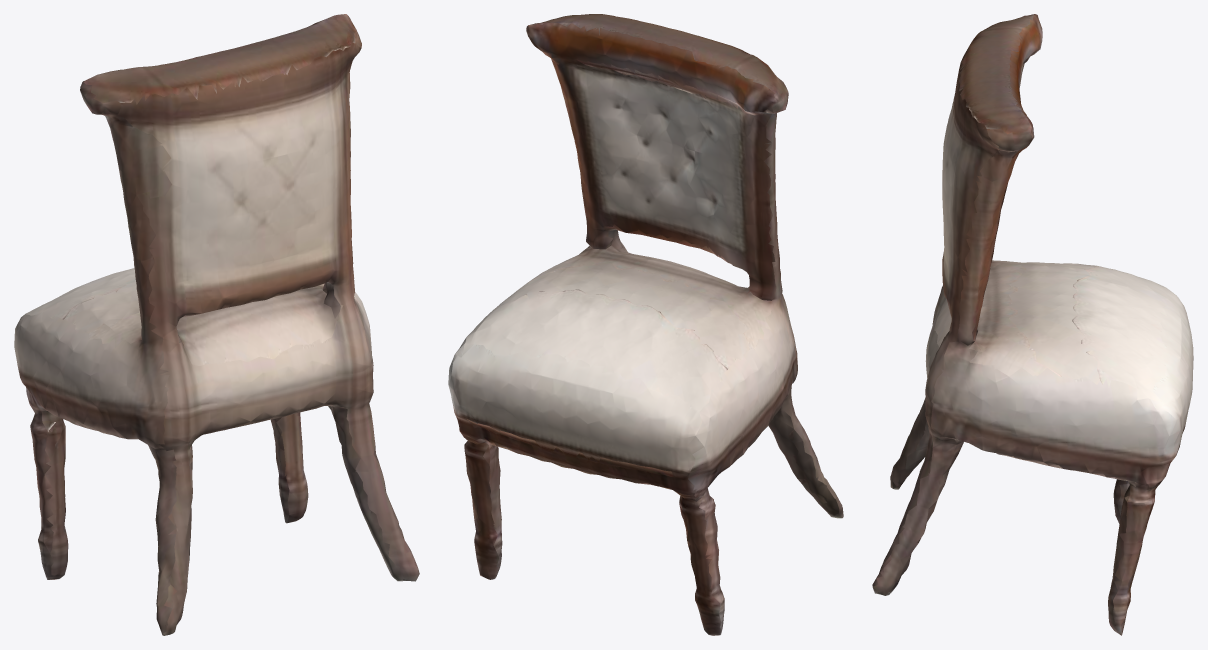
Rendered from chair1.glb.
3 views of the same model, side by side, from view 1: azimuth 30°, elevation 25°; view 2: azimuth 150°, elevation 25°; view 3: azimuth 270°, elevation 25° (orthographic). The views are drawn at different scales.
Visible parts, largest first — view 1: world; view 2: world; view 3: world.
Boxes of the visible parts, x1,y1,x2,y2 form: world: [14, 14, 419, 635]; world: [448, 14, 843, 635]; world: [872, 14, 1193, 635].
Size of the model in its own units: 0.4976 by 0.9346 by 0.5277.
1 material, 1 textured.
